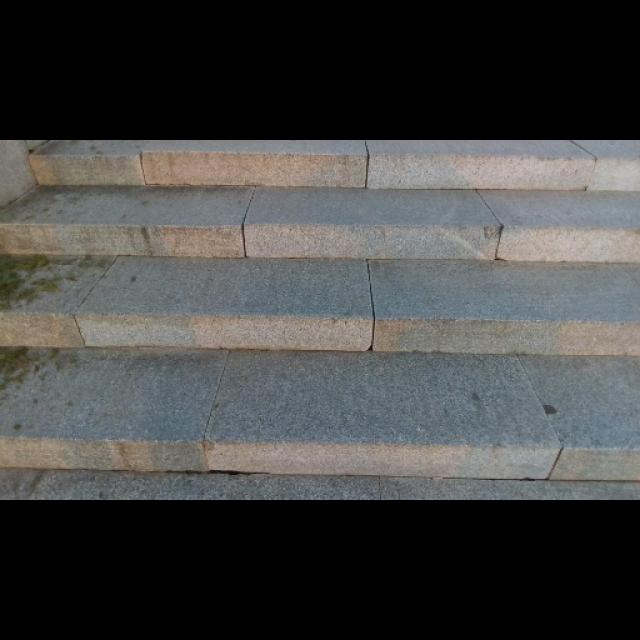Stairs: (0, 138, 639, 494)
